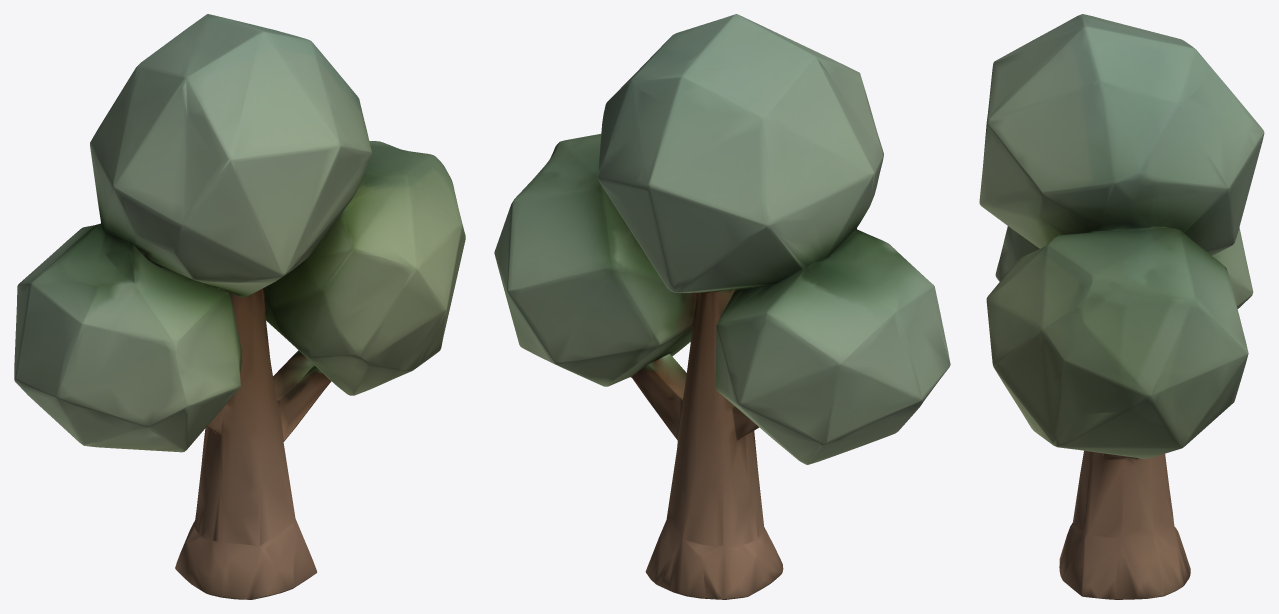
The model's file is tree6.fbx.
3 views of the same model, side by side, from view 1: azimuth 30°, elevation 25°; view 2: azimuth 150°, elevation 25°; view 3: azimuth 270°, elevation 25° (orthographic).
Visible parts, largest first — view 1: tree6; view 2: tree6; view 3: tree6.
Boxes of the visible parts, x1,y1,x2,y2 form: tree6: [14, 14, 465, 599]; tree6: [494, 14, 950, 599]; tree6: [979, 14, 1264, 599].
Bounding box in the file's own units: 27.75 × 34.05 × 16.09.
1 material, 1 textured.
